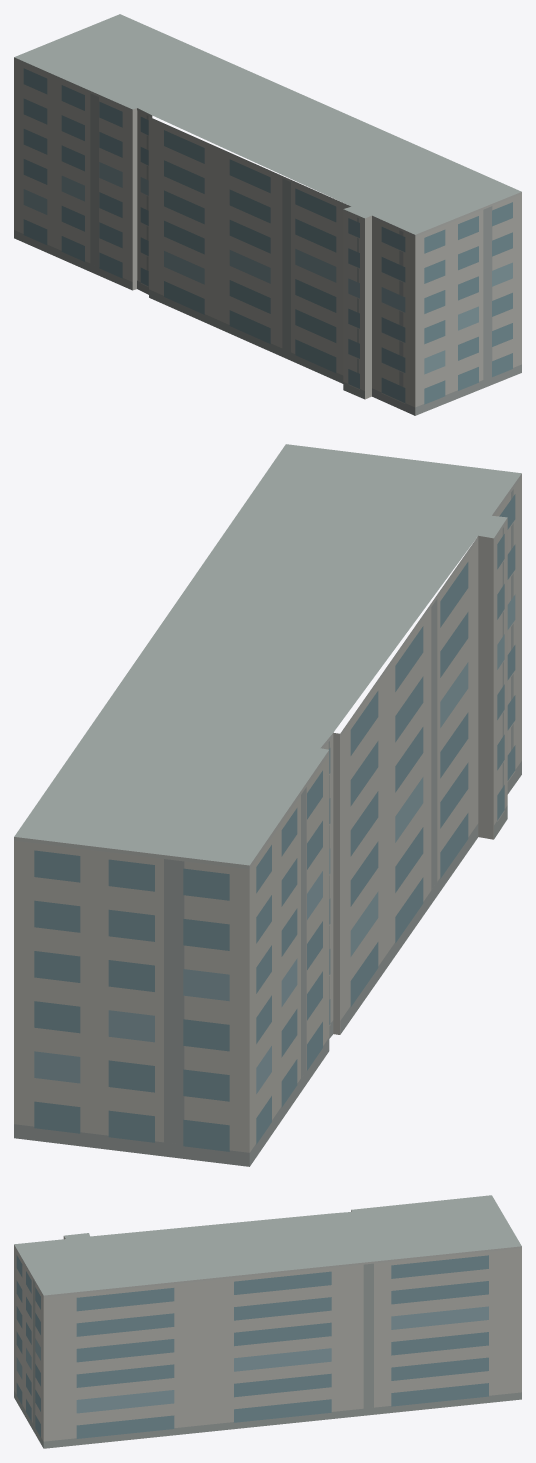
File: survey-upis-32904040.glb
3 views of the same model, one above another, from view 1: azimuth 30°, elevation 25°; view 2: azimuth 150°, elevation 25°; view 3: azimuth 270°, elevation 25° (orthographic). The views are drawn at different scales.
Visible parts, largest first — view 1: survey-upis-32904040.tmp; view 2: survey-upis-32904040.tmp; view 3: survey-upis-32904040.tmp.
Boxes of the visible parts, left/top/right/bottom form: survey-upis-32904040.tmp: left=14, top=14, right=521, bottom=415; survey-upis-32904040.tmp: left=14, top=444, right=521, bottom=1166; survey-upis-32904040.tmp: left=14, top=1195, right=521, bottom=1448.
Size of the model in its own units: 26.43 by 18.8 by 56.49.
